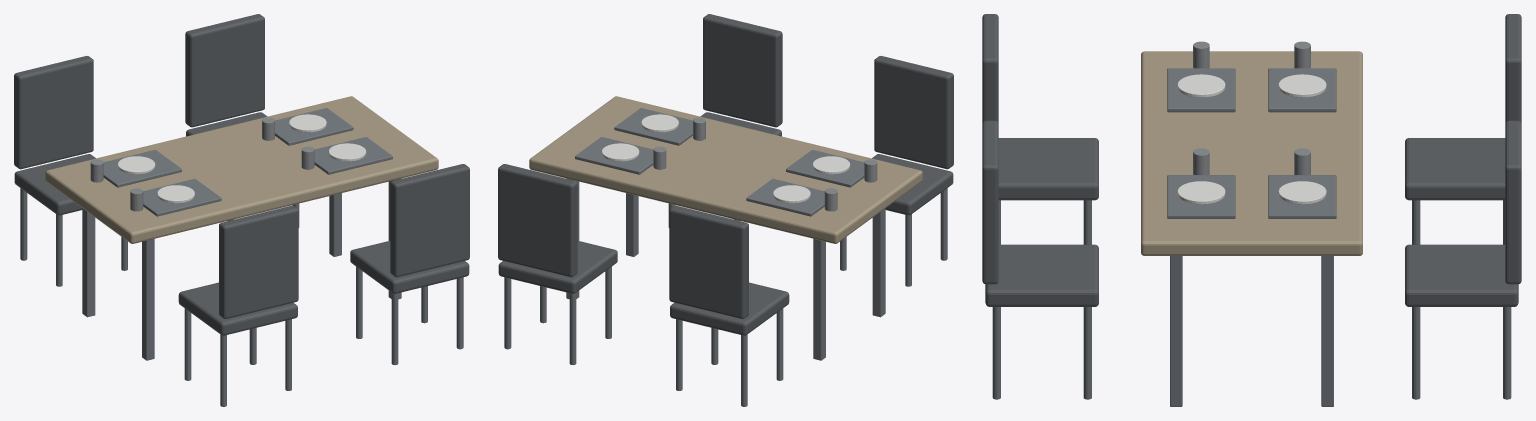
Rendered from BL_DiningSet.fbx.
3 renders of one model, left to right at view 1: azimuth 30°, elevation 25°; view 2: azimuth 150°, elevation 25°; view 3: azimuth 270°, elevation 25°, orthographic. The views are drawn at different scales.
Visible parts, largest first — view 1: BL_DiningSet_LOD0; view 2: BL_DiningSet_LOD0; view 3: BL_DiningSet_LOD0.
Part boxes in pixels (x1,y1,x2,y2): BL_DiningSet_LOD0: (14,14,469,406); BL_DiningSet_LOD0: (498,14,953,406); BL_DiningSet_LOD0: (982,14,1521,406).
Size of what is drawn, in the model's own units: 180 by 104 by 214.
